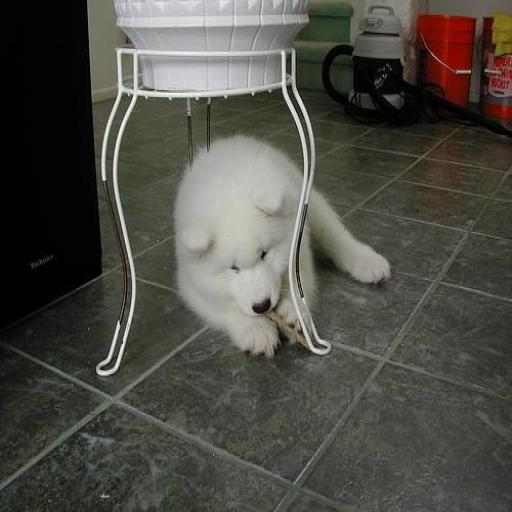dog_face: (189, 156, 293, 323)
